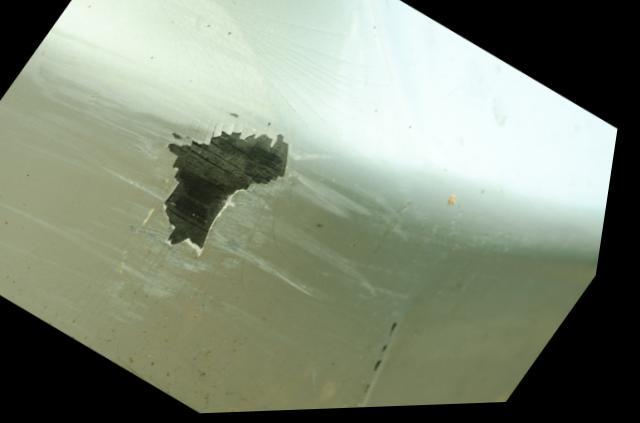scratch: (0, 54, 417, 324)
